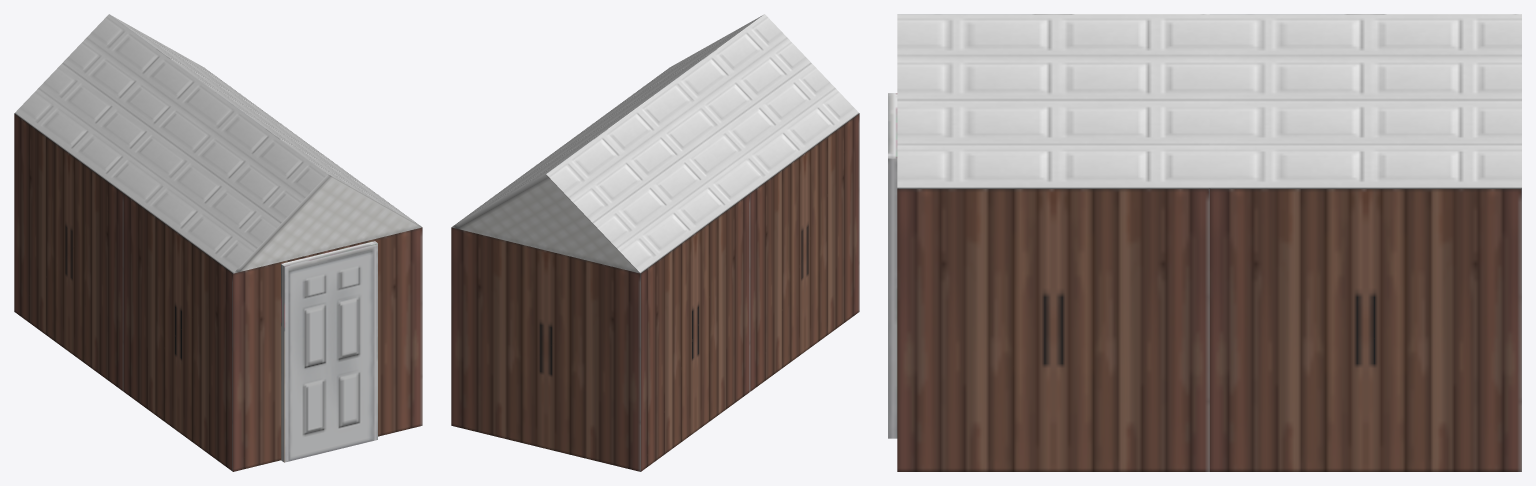
File: Shed_3.fbx
3 renders of one model, left to right at view 1: azimuth 30°, elevation 25°; view 2: azimuth 150°, elevation 25°; view 3: azimuth 270°, elevation 25°, orthographic. The views are drawn at different scales.
Visible parts, largest first — view 1: Maya_File_Assets:TexturedAssetsCurrent:Clean_WoodenShed; view 2: Maya_File_Assets:TexturedAssetsCurrent:Clean_WoodenShed; view 3: Maya_File_Assets:TexturedAssetsCurrent:Clean_WoodenShed.
Boxes of the visible parts, left/top/right/bottom form: Maya_File_Assets:TexturedAssetsCurrent:Clean_WoodenShed: left=14, top=14, right=422, bottom=471; Maya_File_Assets:TexturedAssetsCurrent:Clean_WoodenShed: left=451, top=14, right=859, bottom=471; Maya_File_Assets:TexturedAssetsCurrent:Clean_WoodenShed: left=888, top=14, right=1521, bottom=471.
Size of the model in its own units: 2.69 by 3.73 by 5.46.
